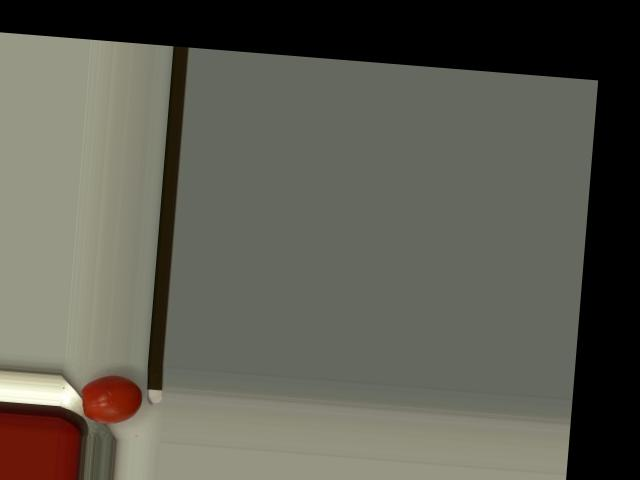tomato: (78, 372, 143, 426)
